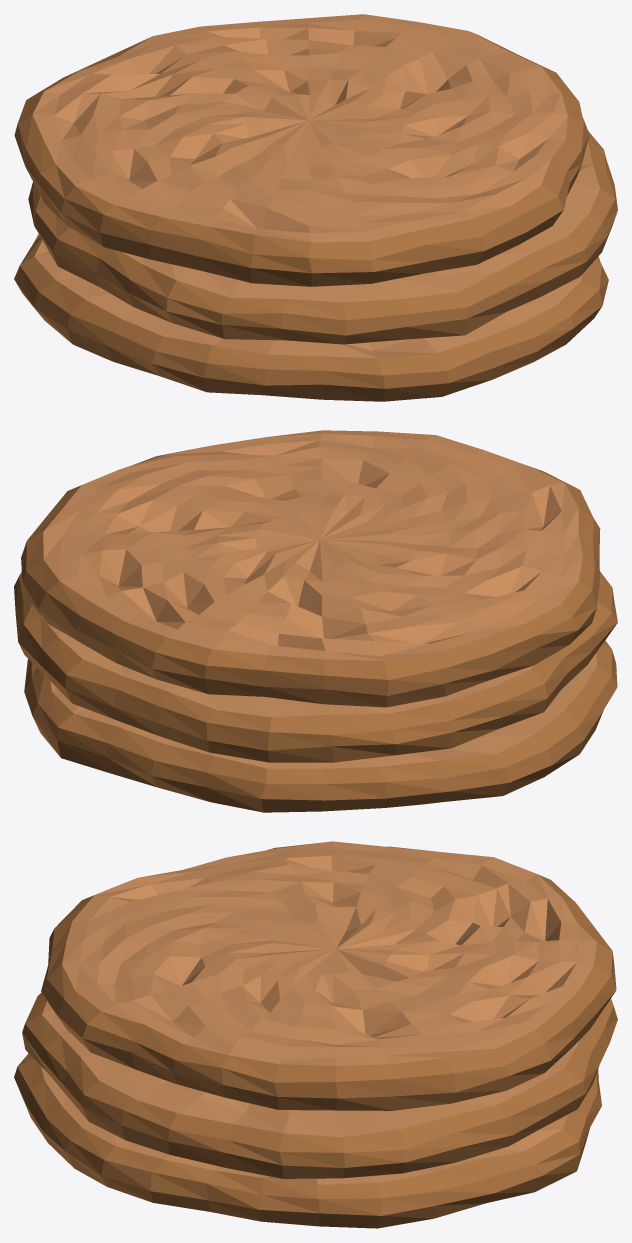
Rendered from pancake.glb.
3 renders of one model, top to bottom at view 1: azimuth 30°, elevation 25°; view 2: azimuth 150°, elevation 25°; view 3: azimuth 270°, elevation 25°, orthographic. The views are drawn at different scales.
Size of the model in its own units: 2.07 by 0.6593 by 2.05.
